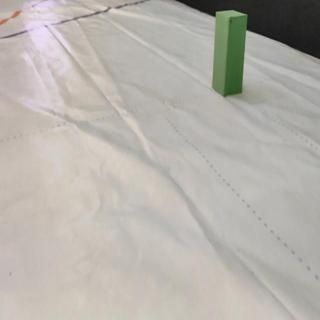greenbox: (211, 9, 248, 99)
